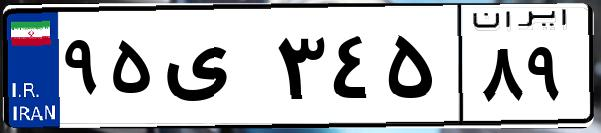3: (270, 28, 330, 110)
4: (330, 28, 385, 110)
5: (385, 28, 445, 110), (110, 28, 158, 98)
8: (475, 38, 525, 113)
9: (57, 26, 110, 100), (525, 38, 570, 115)
ی: (158, 20, 270, 120)
